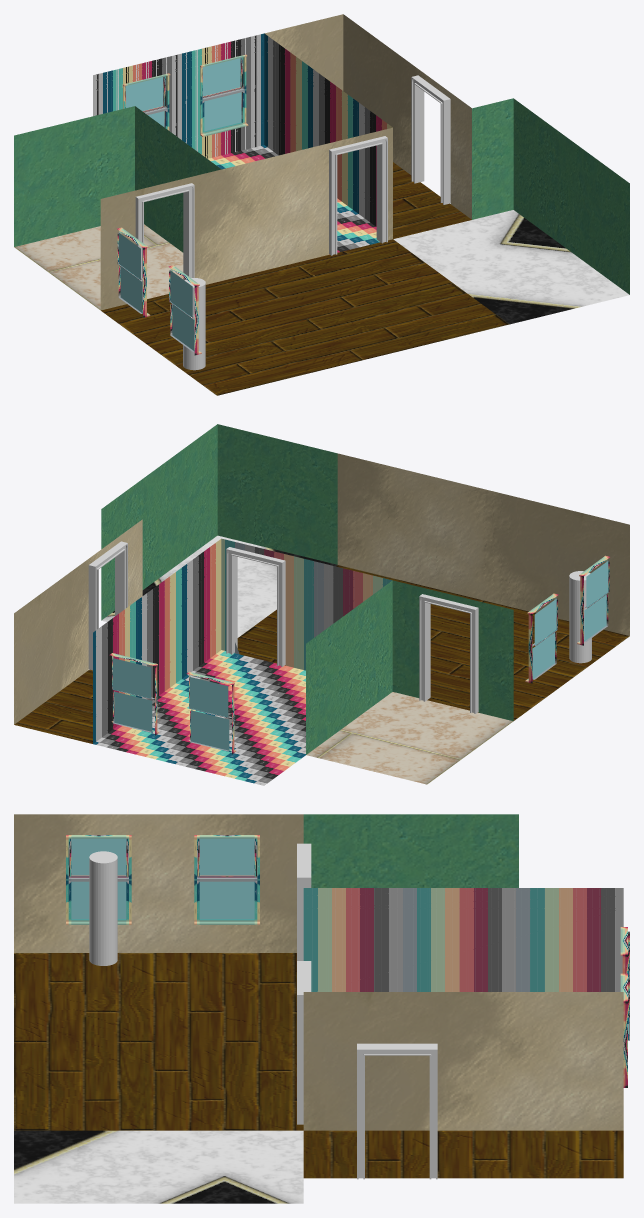
Rendered from Apartment.glb.
The picture shows the model from 3 angles, top to bottom: view 1: azimuth 30°, elevation 25°; view 2: azimuth 150°, elevation 25°; view 3: azimuth 270°, elevation 25°; orthographic projection. The views are drawn at different scales.
Visible parts, largest first — view 1: LivingRoom, Kitchen, Bathroom, Bedroom, Hall, window.004, door_frame.002, door_frame, window, window.002, door_frame.001, window.003 (+1 smaller); view 2: LivingRoom, Bedroom, Kitchen, Bathroom, Hall, window.004, window.003, door_frame.001, door_frame, window.002, window, door_frame.002 (+1 smaller); view 3: LivingRoom, Hall, Bedroom, Kitchen, Bathroom, window.002, window, player_stand_in, door_frame.002, door_frame, door_frame.001, window.004.
Boxes of the visible parts, box(x1,y1,x2,y2) form: LivingRoom: box(100, 127, 509, 395); Kitchen: box(393, 98, 629, 324); Bathroom: box(14, 106, 221, 310); Bedroom: box(93, 33, 392, 254); Hall: box(265, 14, 471, 238); window.004: box(200, 54, 248, 136); door_frame.002: box(411, 75, 450, 204); door_frame: box(329, 136, 387, 255); window: box(168, 265, 201, 355); window.002: box(117, 227, 150, 317); door_frame.001: box(135, 183, 194, 301); window.003: box(123, 73, 170, 130); LivingRoom: box(237, 453, 629, 720); Bedroom: box(93, 538, 391, 785); Kitchen: box(101, 424, 337, 637); Bathroom: box(306, 580, 513, 784); Hall: box(14, 519, 142, 743); window.004: box(109, 653, 159, 735); window.003: box(186, 671, 236, 754); door_frame.001: box(419, 594, 478, 713); door_frame: box(226, 547, 285, 666); window.002: box(525, 593, 558, 683); window: box(577, 555, 609, 645); door_frame.002: box(88, 541, 127, 670); LivingRoom: box(14, 814, 303, 1130); Hall: box(303, 992, 623, 1178); Bedroom: box(303, 888, 623, 991); Kitchen: box(14, 1130, 303, 1203); Bathroom: box(303, 814, 518, 887); window.002: box(194, 835, 259, 924); window: box(66, 835, 131, 924); player_stand_in: box(89, 851, 117, 965); door_frame.002: box(357, 1043, 437, 1179); door_frame: box(297, 961, 311, 1124); door_frame.001: box(297, 843, 311, 960); window.004: box(620, 973, 629, 1087).
Size of the model in its own units: 10.52 by 2.7 by 10.86.
Materials: 7 (6 with a texture image).
